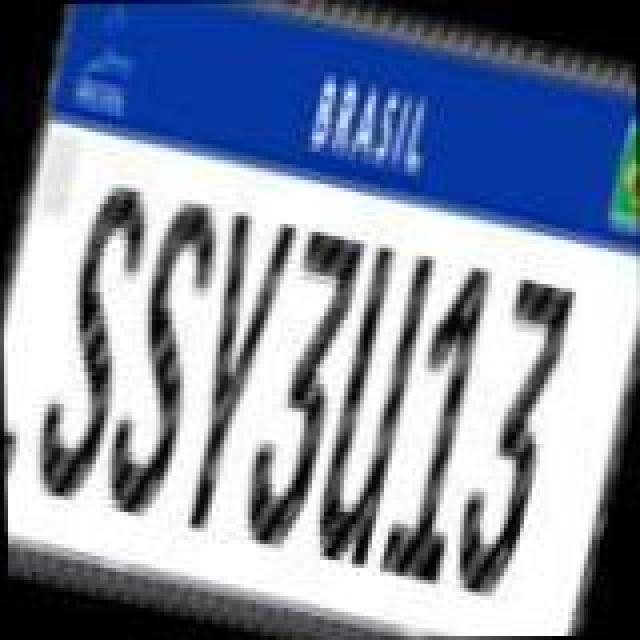1: (370, 252, 518, 592)
3: (226, 222, 374, 562), (434, 266, 582, 606)
S: (16, 174, 164, 514), (90, 184, 234, 524)
U: (302, 240, 442, 576)
Y: (152, 206, 300, 542)
